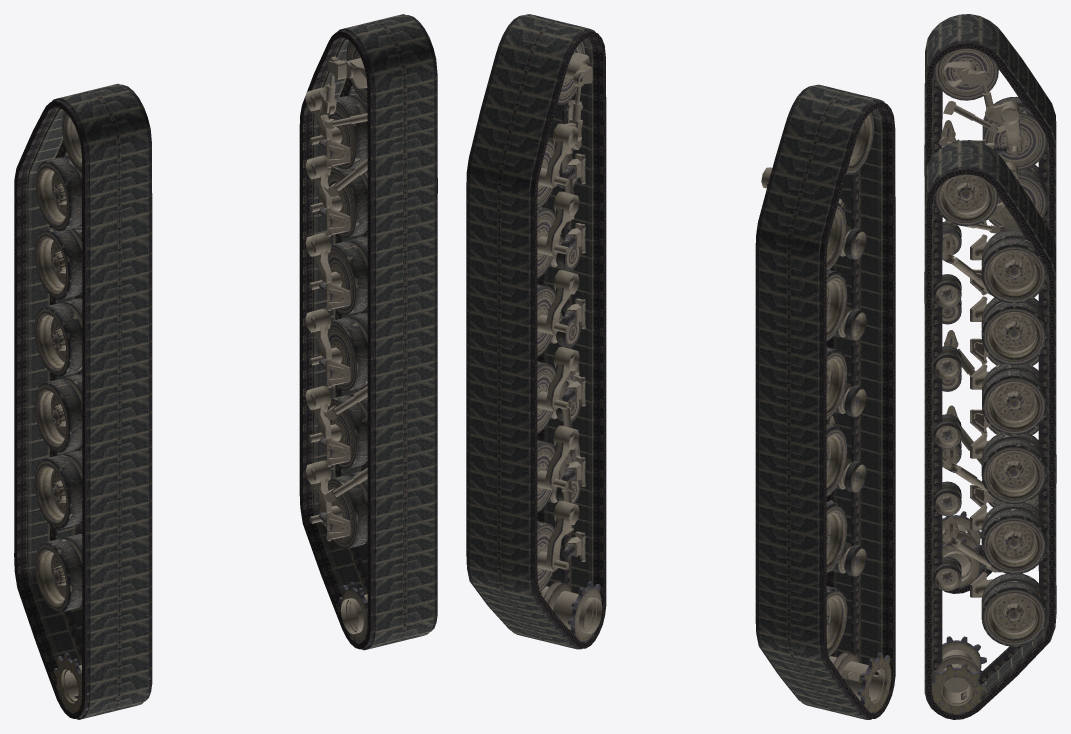
File: Chassis.glb
3 views of the same model, side by side, from view 1: azimuth 30°, elevation 25°; view 2: azimuth 150°, elevation 25°; view 3: azimuth 270°, elevation 25° (orthographic). The views are drawn at different scales.
Parts seen in each view (by area): view 1: set_0_group_0, set_1_group_0, set_3_group_0, set_2_group_0; view 2: set_0_group_0, set_1_group_0, set_3_group_0, set_2_group_0; view 3: set_3_group_0, set_1_group_0, set_2_group_0, set_0_group_0.
Boxes of the visible parts, box(x1,y1,x2,y2) form: set_0_group_0: box(14, 83, 152, 719); set_1_group_0: box(299, 14, 437, 650); set_3_group_0: box(305, 41, 371, 642); set_2_group_0: box(34, 111, 150, 717); set_0_group_0: box(755, 84, 895, 719); set_1_group_0: box(466, 14, 606, 649); set_3_group_0: box(537, 41, 602, 647); set_2_group_0: box(761, 112, 891, 717); set_3_group_0: box(931, 174, 1046, 714); set_1_group_0: box(924, 140, 1056, 719); set_2_group_0: box(934, 48, 1047, 588); set_0_group_0: box(924, 14, 1056, 593).
Bounding box in the file's own units: 3.73 × 6.19 × 1.34.
Materials: 4 (4 with a texture image).
